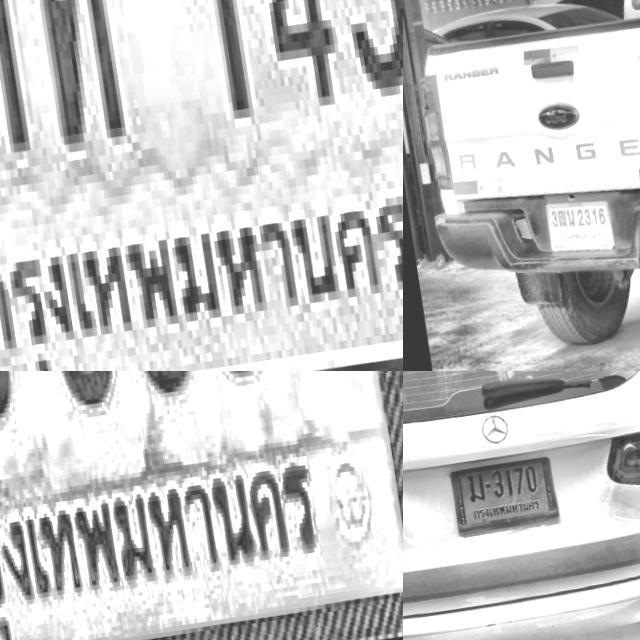license-plate: (0, 0, 403, 371), (0, 371, 403, 640), (448, 451, 564, 538), (544, 193, 621, 263)
